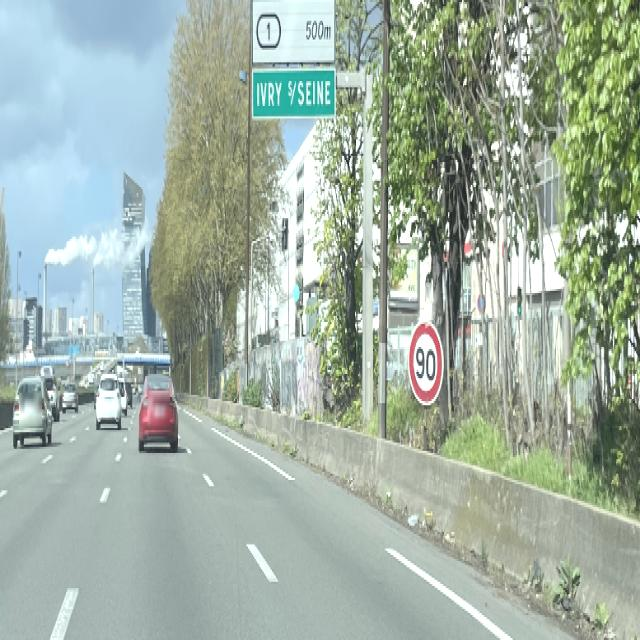speed_90: (407, 318, 445, 404)
